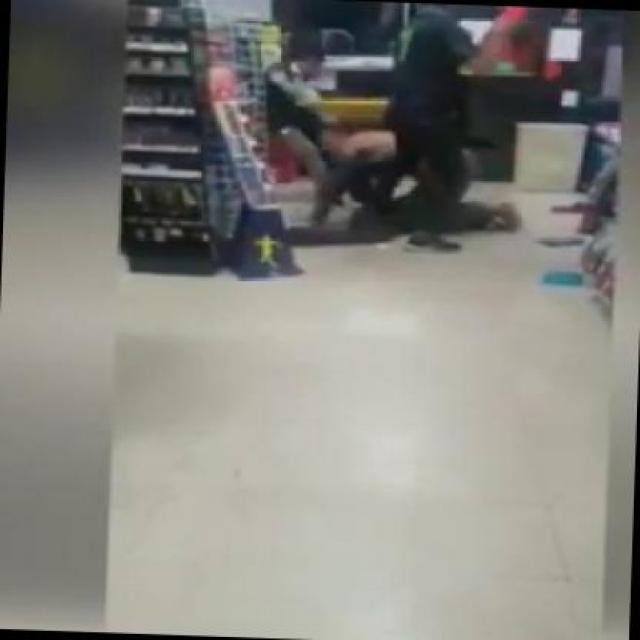fight: (302, 123, 532, 252)
